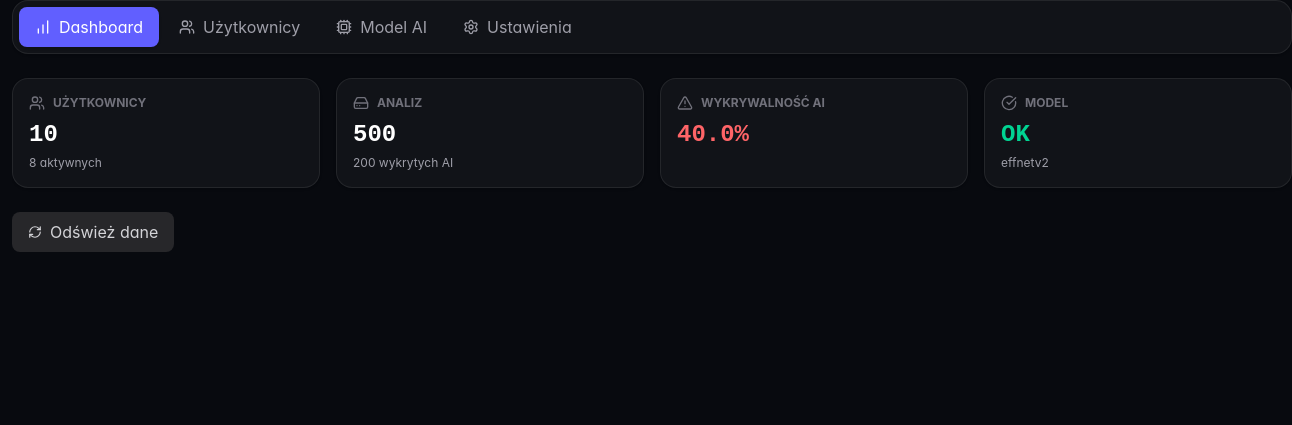
Test: AdminPanel › model tab › should display model info
Click the button "Model AI". click: (382, 27)
box: [320,7,443,47]
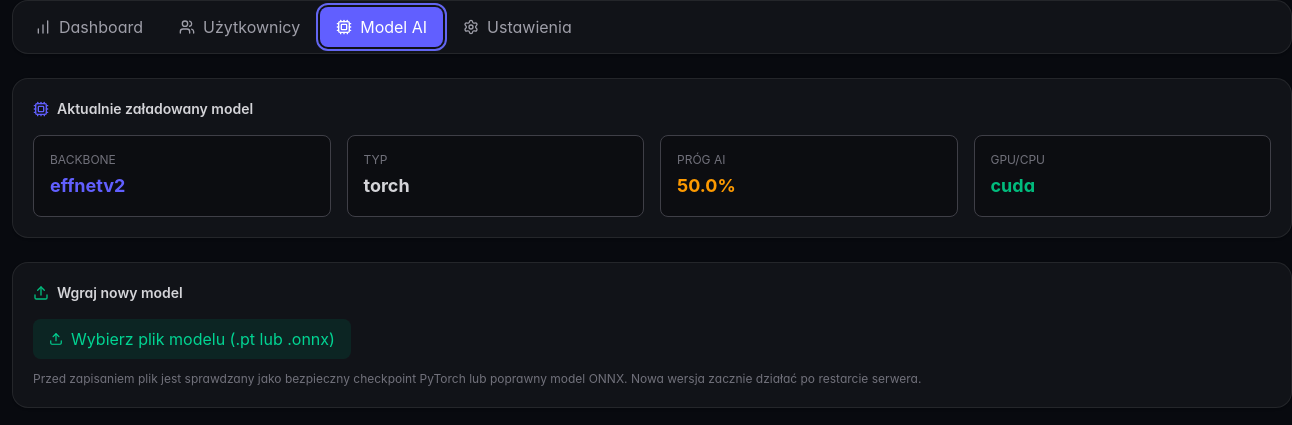
Check: the text "effnetv2" is shown, box [50,175,125,196]
Check: the text "cuda" is shown, box [990,175,1035,196]
Check: the button "Wybierz plik modelu (.pt lub .onnx)" is shown, box [33,319,351,359]
